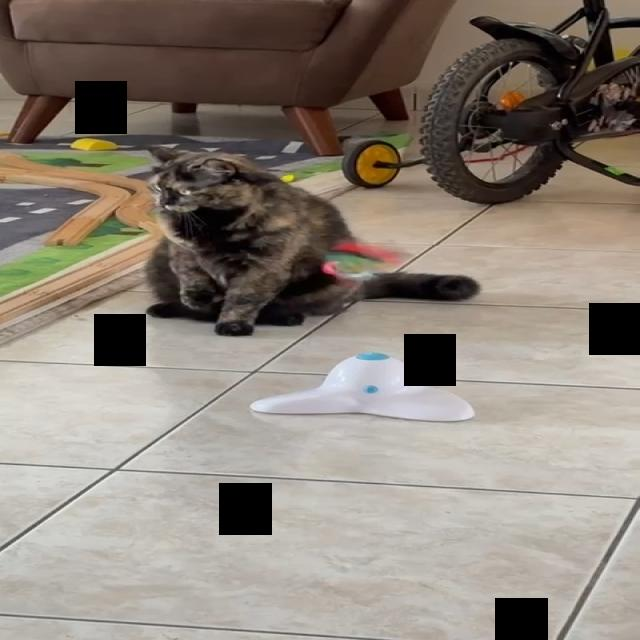authorized: (141, 144, 480, 336)
